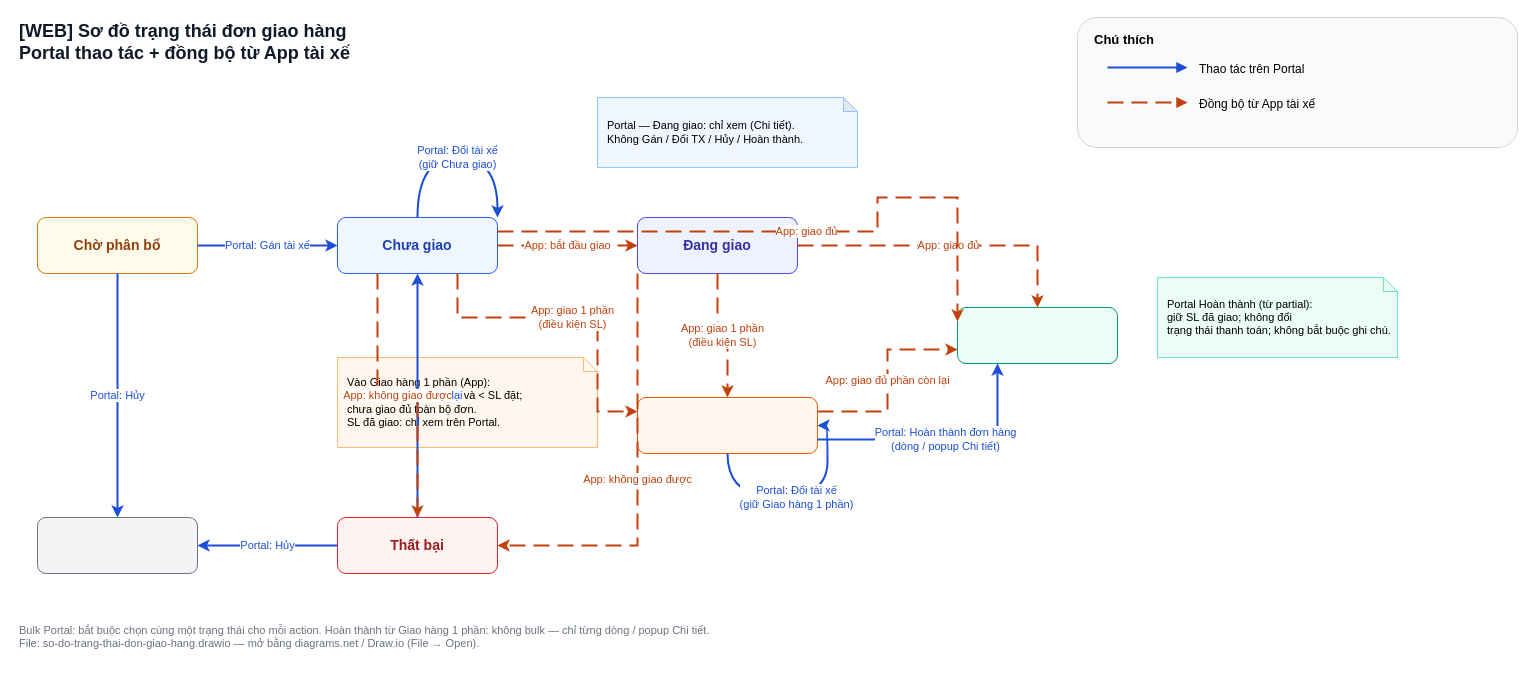
This 1535x685 diagram has some shape labels left out. The shapes that lost their labels are listed below. From the top down, each one's box as (x1, y1, x2, y2) in pixels, then its label:
(956, 306, 1118, 364): Hoàn thành
(636, 396, 818, 454): Giao hàng 1 phần
(36, 516, 198, 574): Đã hủy
